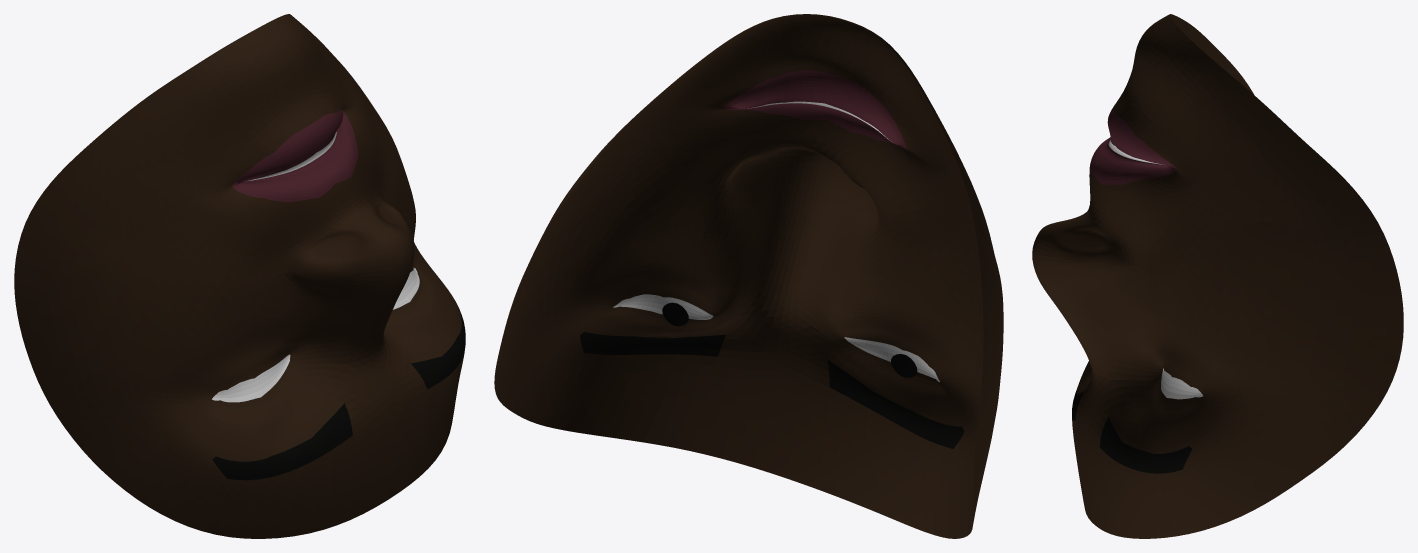
File: VID-20250515-WA0006_f_00349.obj
The picture shows the model from 3 angles, left to right: view 1: azimuth 30°, elevation 25°; view 2: azimuth 150°, elevation 25°; view 3: azimuth 270°, elevation 25°; orthographic projection. The views are drawn at different scales.
Visible parts, largest first — view 1: face_mesh_subdivided; view 2: face_mesh_subdivided; view 3: face_mesh_subdivided.
Part boxes in pixels (<box>): face_mesh_subdivided: <box>14,14,465,538</box>; face_mesh_subdivided: <box>494,14,1003,538</box>; face_mesh_subdivided: <box>1032,14,1403,538</box>.
Size of the model in its own units: 0.4783 by 0.5309 by 0.3833.
